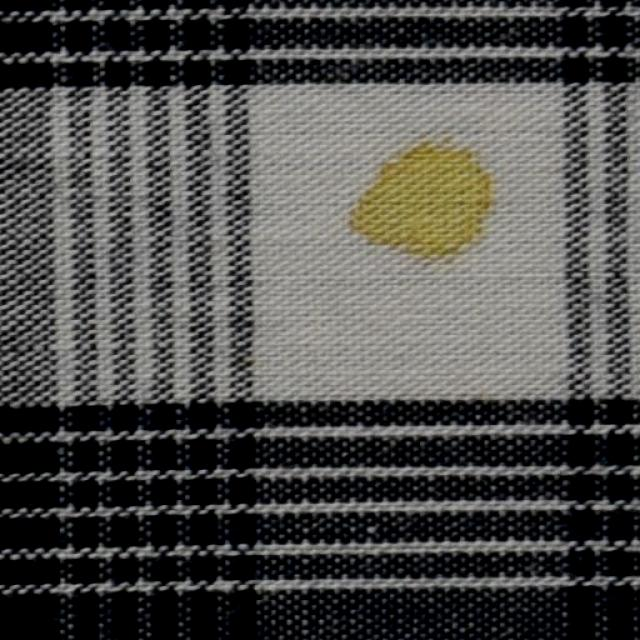Stain: (342, 132, 500, 289)
